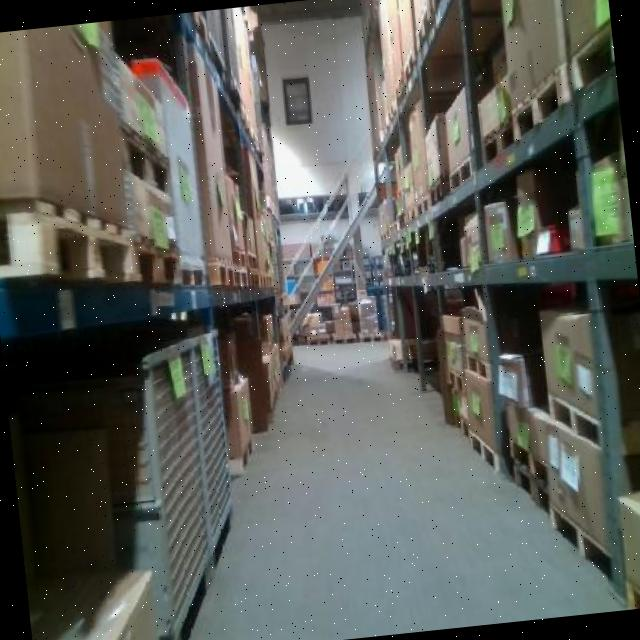pallet: (0, 188, 150, 297), (499, 47, 581, 153), (543, 491, 623, 597), (541, 385, 610, 459), (464, 418, 508, 485), (475, 106, 520, 169), (440, 150, 480, 196), (206, 257, 254, 290), (326, 326, 366, 352), (301, 328, 338, 349), (355, 326, 388, 348)
